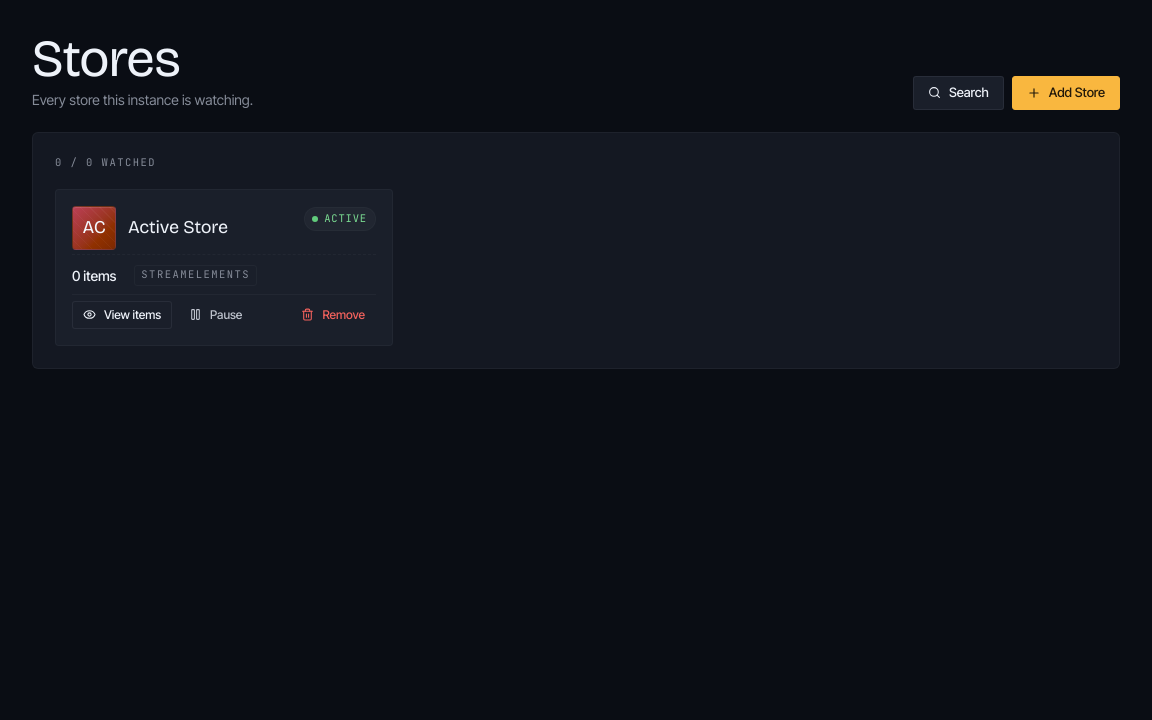
Test: StoresPage › shows 'Store removed' toast after successful remove
Click the button "Remove". click: (333, 315)
box: left=290, top=301, right=376, bottom=329
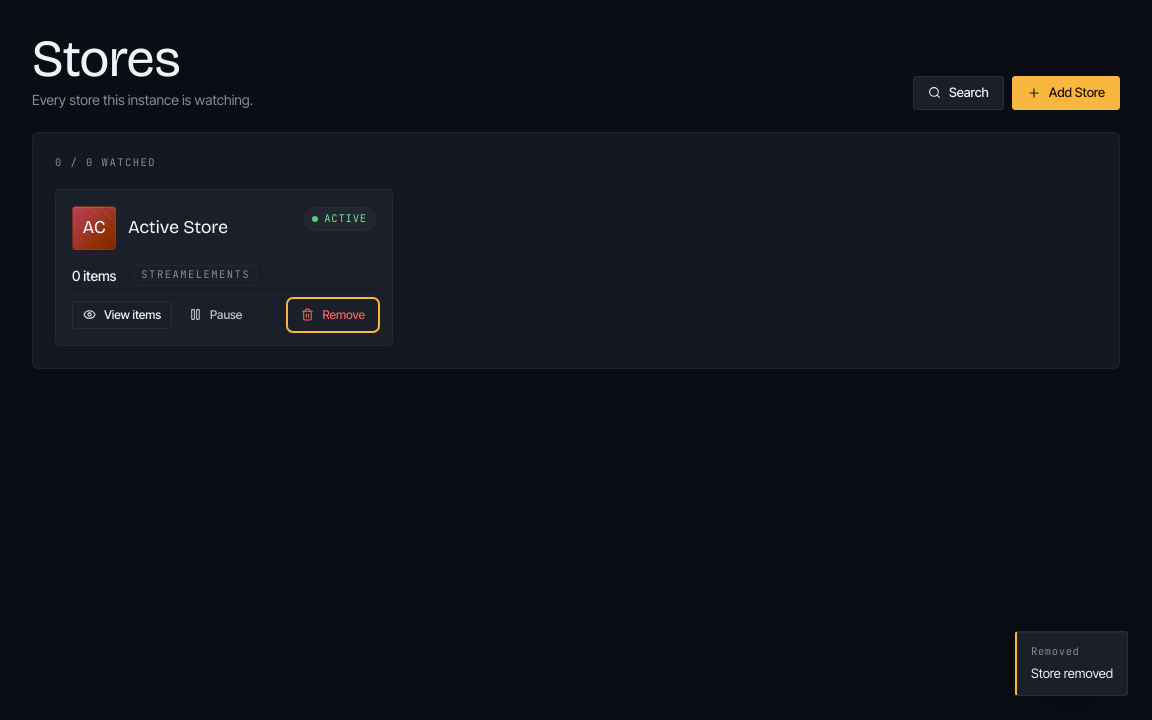
Now the text "Store removed" is shown, box left=1031, top=664, right=1113, bottom=683
